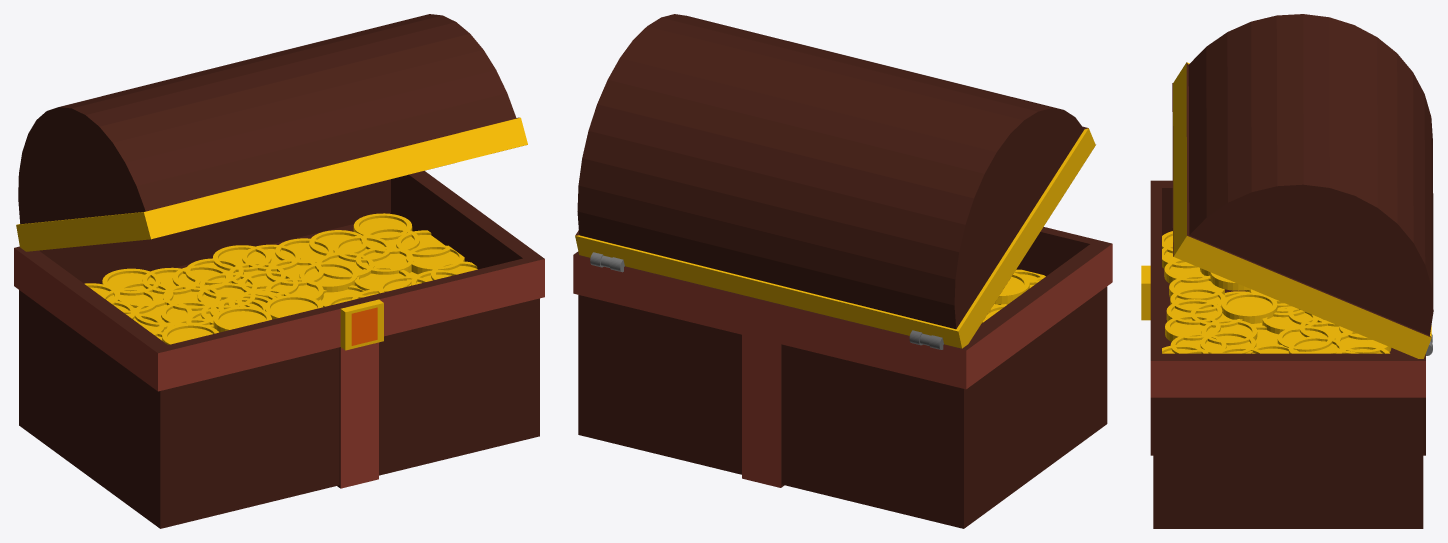
The model's file is the treasure.fbx.
The picture shows the model from 3 angles, left to right: view 1: azimuth 30°, elevation 25°; view 2: azimuth 150°, elevation 25°; view 3: azimuth 270°, elevation 25°; orthographic projection. The views are drawn at different scales.
Parts seen in each view (by area): view 1: Cube, Cylinder.002, Cylinder.058, Cylinder.006, Cylinder.015, Cylinder.038, Cylinder.042, Cylinder.070, Cylinder.069, Cylinder.008, Cylinder.057, Cylinder.039 (+15 smaller); view 2: Cylinder.002, Cube, Cylinder.004; view 3: Cylinder.002, Cube, Cylinder.008, Cylinder.038, Cylinder.019, Cylinder.022, Cylinder.050, Cylinder.020, Cylinder.061, Cylinder.021, Cylinder.023, Cylinder.037 (+7 smaller).
Part boxes in pixels (x1,y1,x2,y2): Cube: (14, 171, 544, 528); Cylinder.002: (16, 14, 527, 251); Cylinder.058: (353, 213, 412, 240); Cylinder.006: (213, 306, 271, 332); Cylinder.015: (406, 244, 464, 274); Cylinder.038: (299, 262, 357, 292); Cylinder.042: (309, 230, 367, 255); Cylinder.070: (213, 245, 271, 271); Cylinder.069: (102, 268, 160, 295); Cylinder.008: (265, 295, 322, 319); Cylinder.057: (275, 238, 333, 265); Cylinder.039: (356, 247, 413, 274); Cylinder.002: (575, 14, 1095, 348); Cube: (573, 227, 1112, 528); Cylinder.004: (994, 272, 1029, 304); Cylinder.002: (1172, 14, 1433, 358); Cube: (1141, 180, 1425, 528); Cylinder.008: (1221, 292, 1277, 323); Cylinder.038: (1277, 326, 1333, 351); Cylinder.019: (1165, 315, 1220, 341); Cylinder.022: (1169, 275, 1224, 300); Cylinder.050: (1201, 319, 1257, 345); Cylinder.020: (1166, 299, 1222, 324); Cylinder.061: (1200, 331, 1256, 353); Cylinder.021: (1170, 287, 1225, 313); Cylinder.023: (1164, 259, 1210, 283); Cylinder.037: (1262, 306, 1317, 334).
Size of the model in its own units: 316 by 281 by 216.
